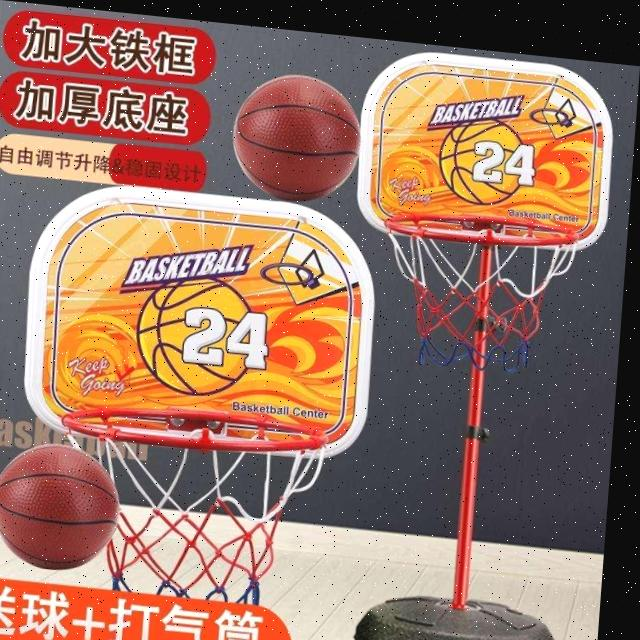basketball: (230, 69, 363, 207), (0, 438, 122, 579)
hoop: (55, 403, 325, 609), (379, 206, 580, 380)
